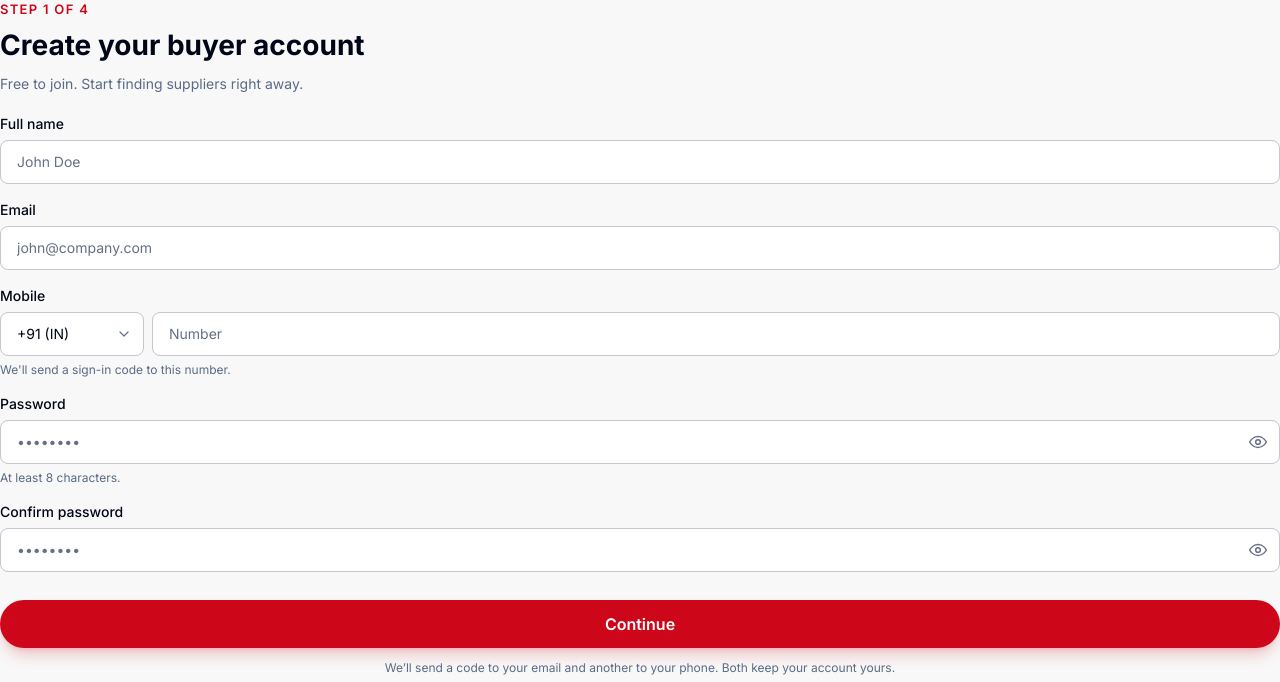
Test case: Buyer signup — step 1 › an address already in use: the server's message plus "Sign in instead"
The width and height of the screenshot is (1280, 682).
Type " Nikita Rao " into the field labelled "Full name" at (640, 162), box [0,140,1279,184]
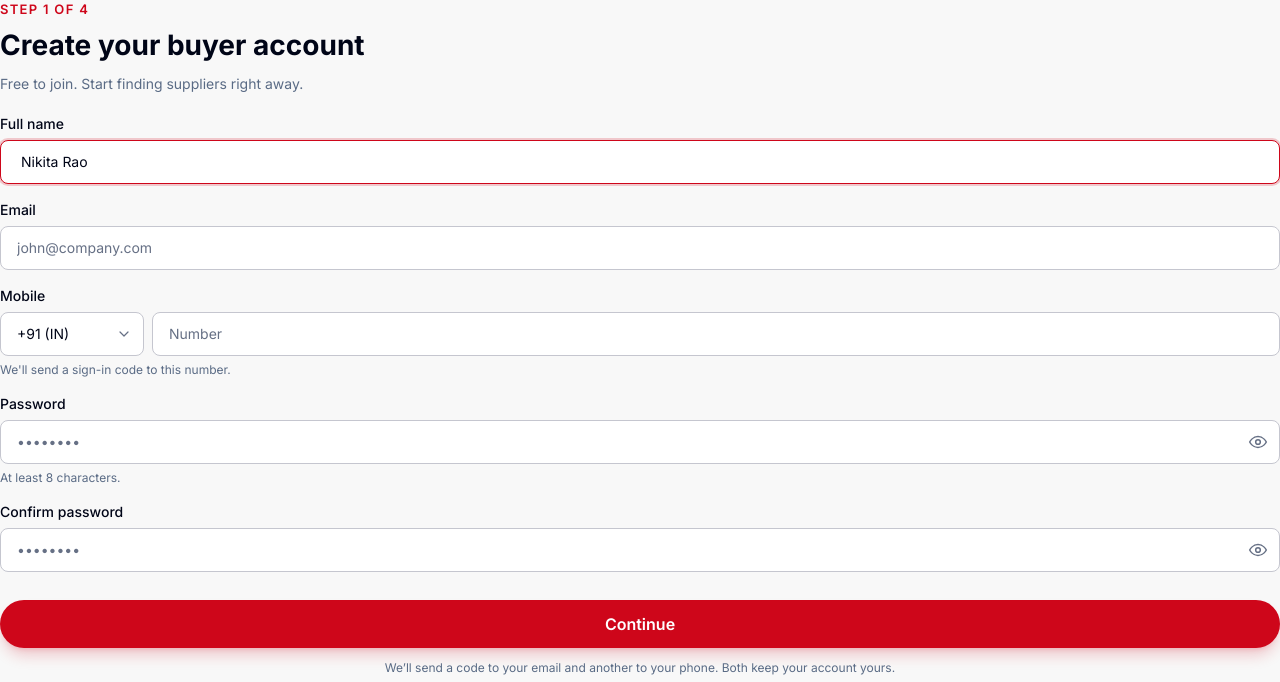
Type "nikita@example.com" into the field labelled "Email" at (640, 248), box [0,226,1279,270]
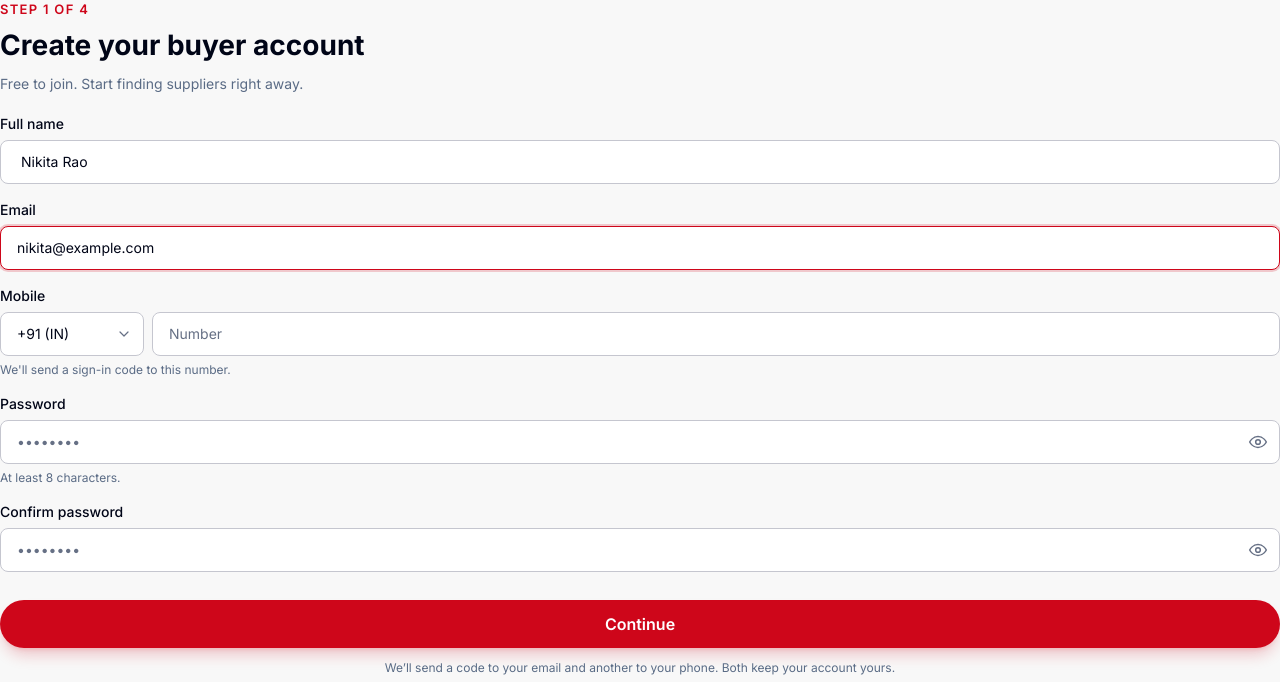
Type "98765 43210" into the field with placeholder "Number" at (716, 334), box [152,312,1279,356]
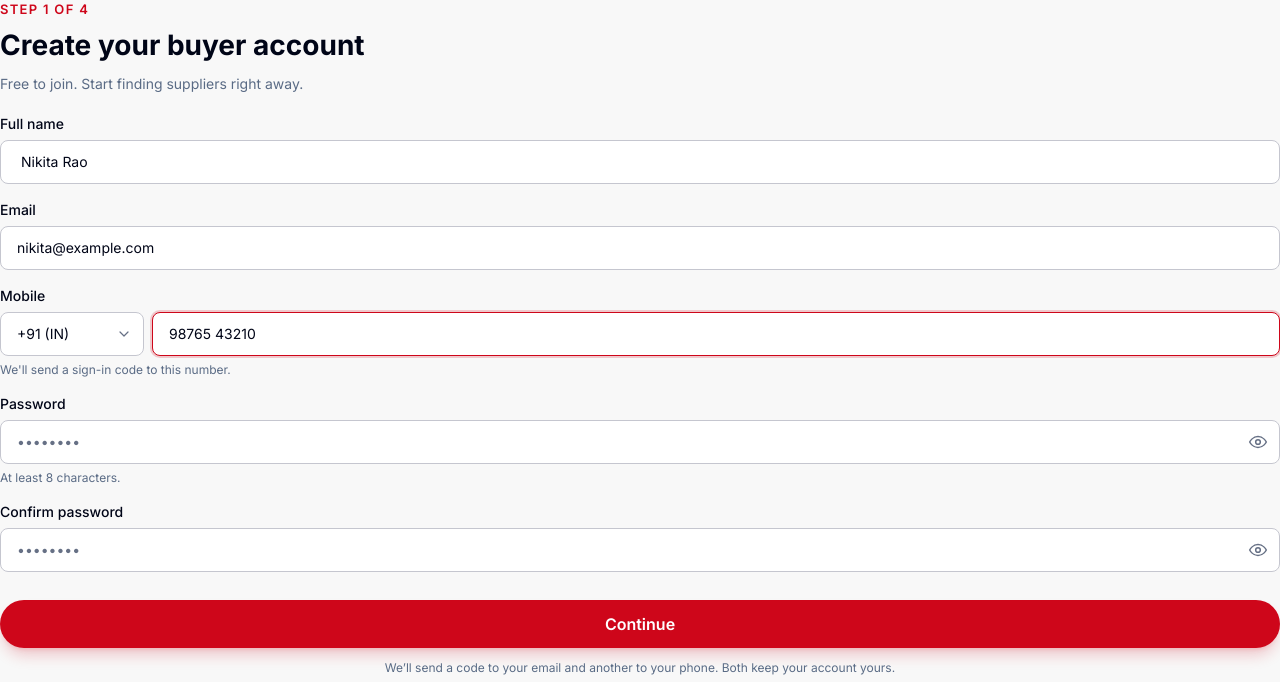
Type "longpassword1" into the password field labelled "Password" at (640, 442), box [0,420,1279,464]
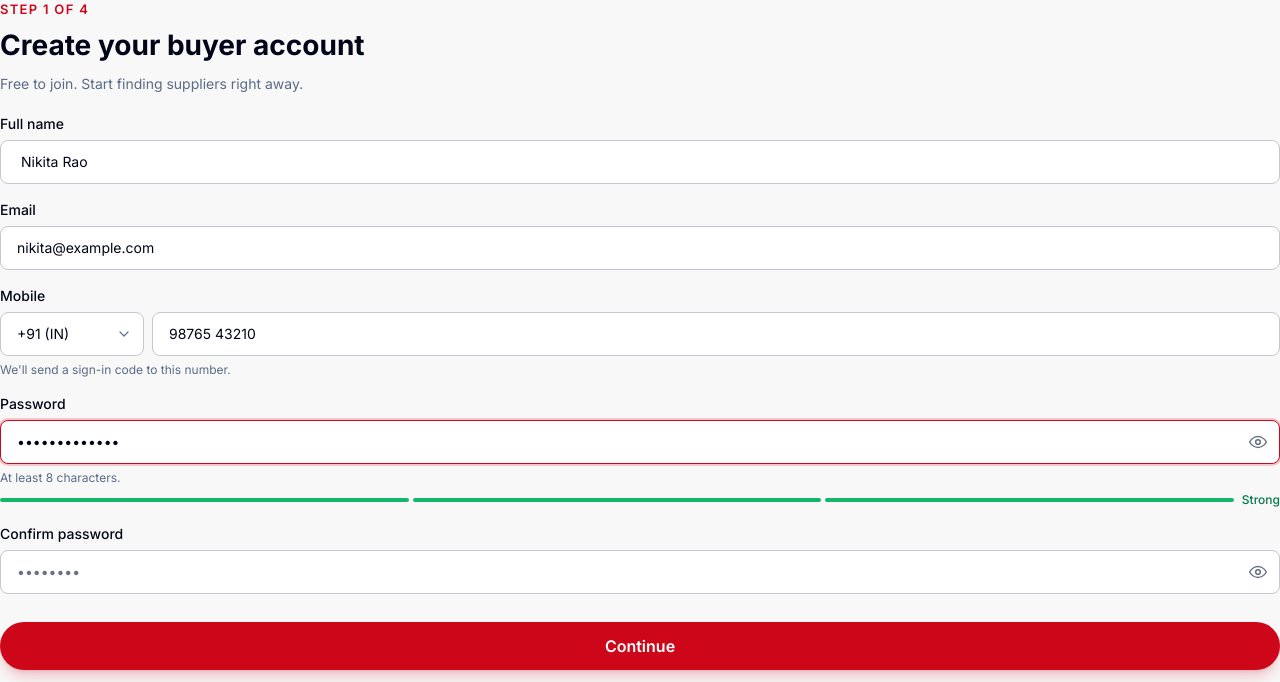
Type "longpassword1" into the password field labelled "Confirm password" at (640, 572), box [0,550,1279,594]
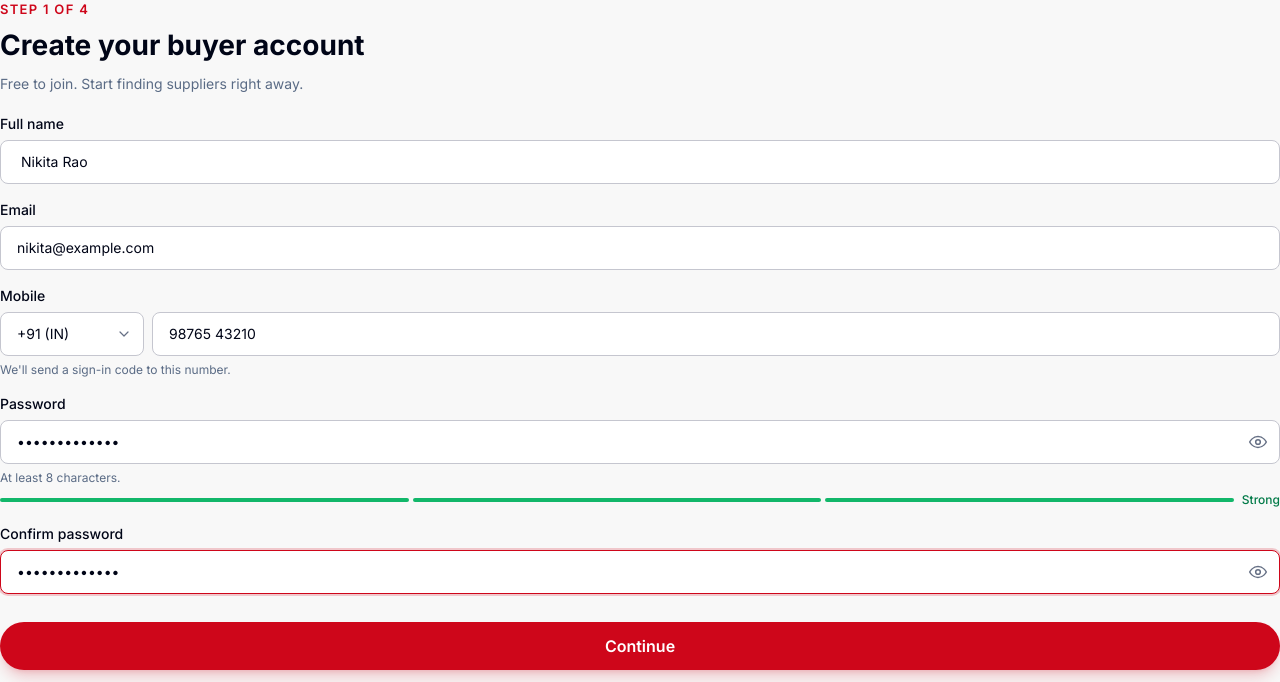
Click the button "Continue" at (640, 646), box [0,622,1279,670]
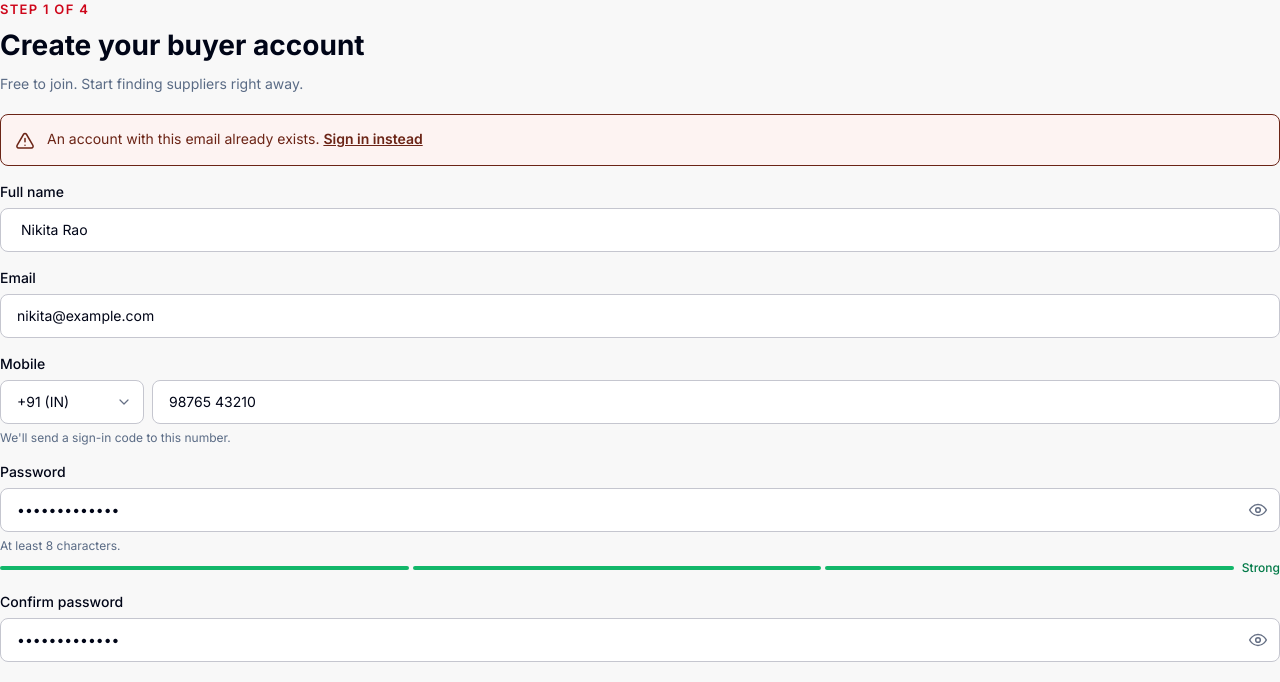
Check: the text "An account with this email already exists. Sign in instead" is shown, box [47,128,423,148]
Check: the link "Sign in instead" is shown, box [323,130,423,146]
